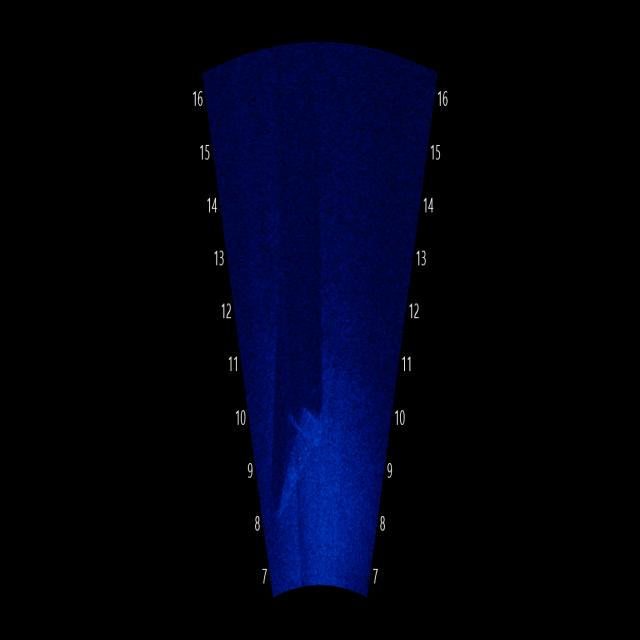triangle: (266, 390, 328, 529)
